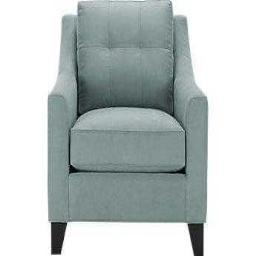Chair: (48, 1, 207, 256)
